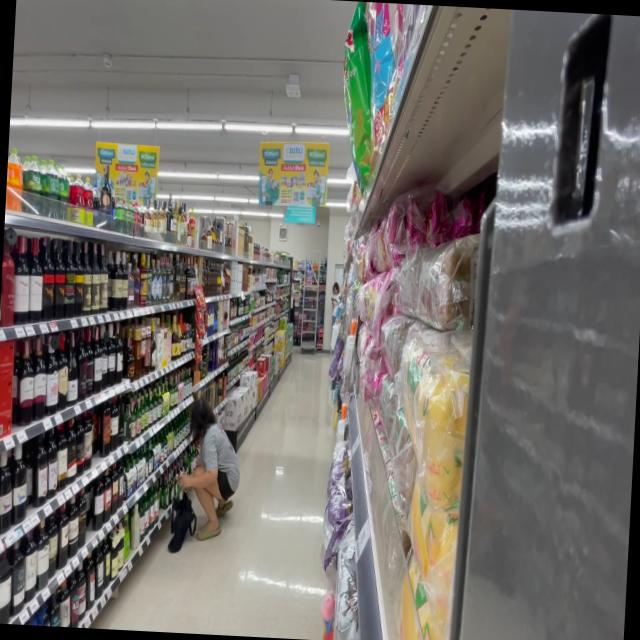shoplifting: (164, 398, 238, 558)
